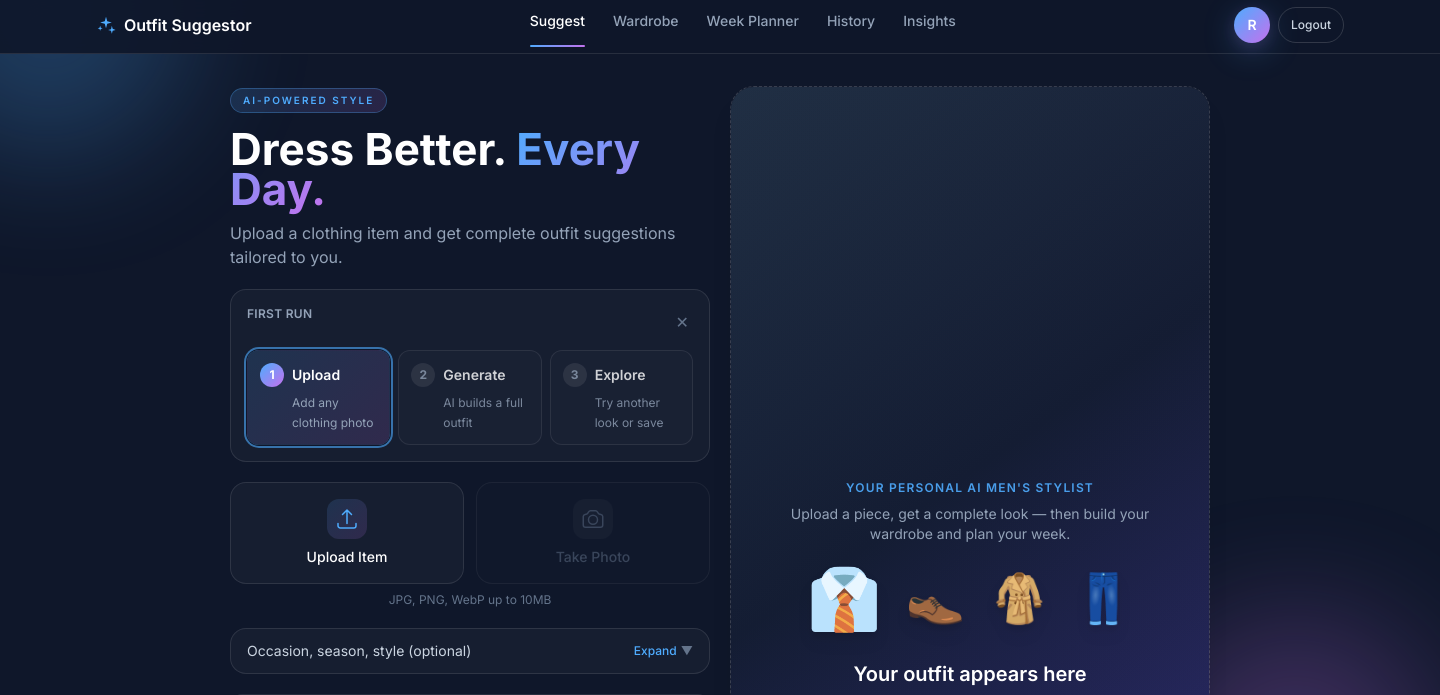
Test: Admin visibility gating › App integration (non-admin) › hides admin diagnostics after premium insights analysis for non-admin
Click the link "Insights" at (930, 20), box left=903, top=12, right=956, bottom=29
(page scrolled)
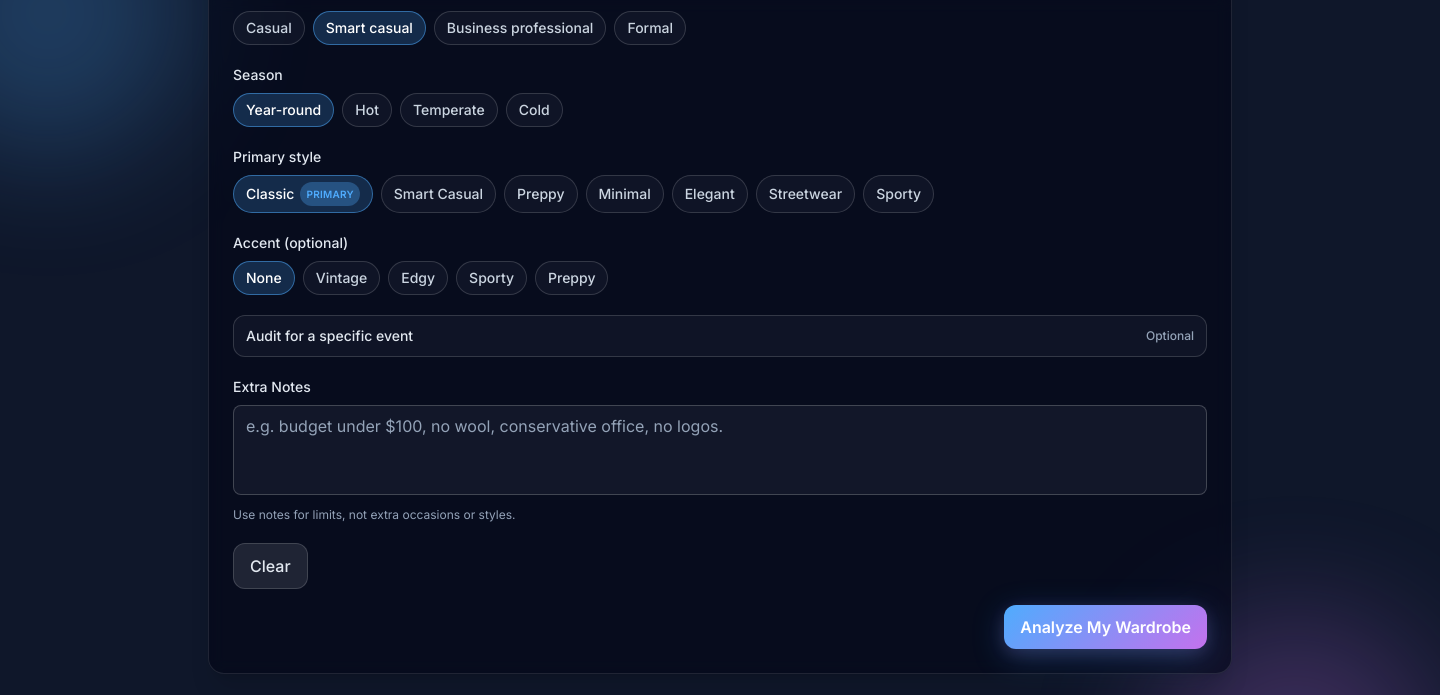
Click the button "Analyze My Wardrobe" at (1106, 627), box left=1004, top=605, right=1207, bottom=649
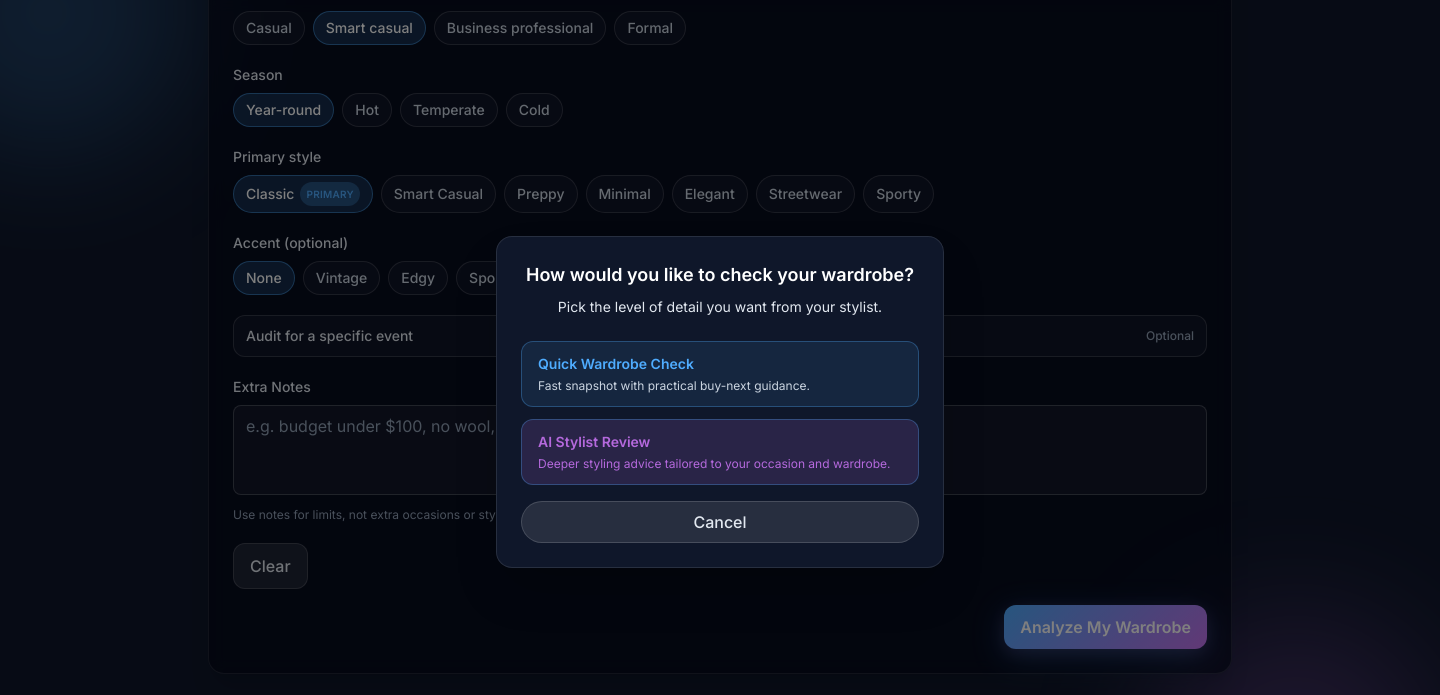
Expected: the heading "How would you like to check your wardrobe?" is shown, left=521, top=261, right=919, bottom=289
Click the button "AI Stylist Review" at (594, 442), box left=521, top=419, right=919, bottom=485
(page scrolled)
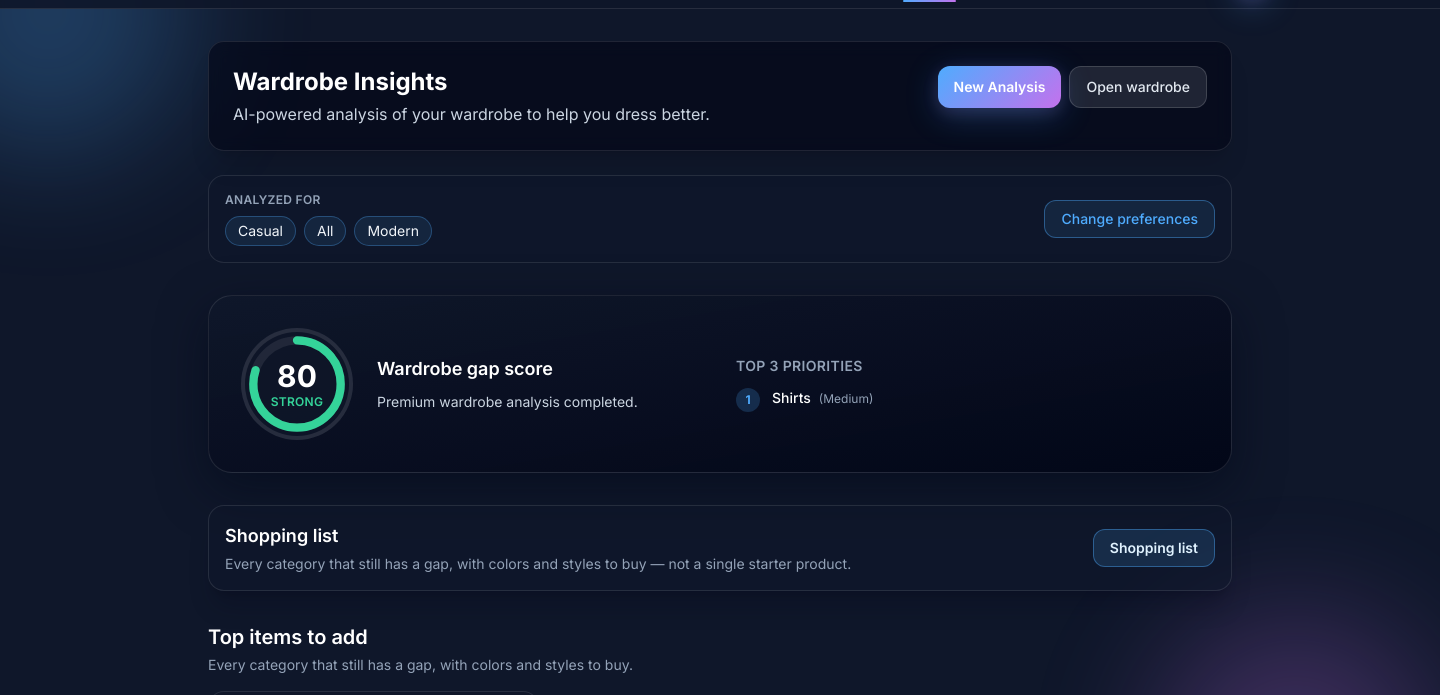
Expected: the text "Premium wardrobe analysis completed." is shown, left=377, top=391, right=638, bottom=413
